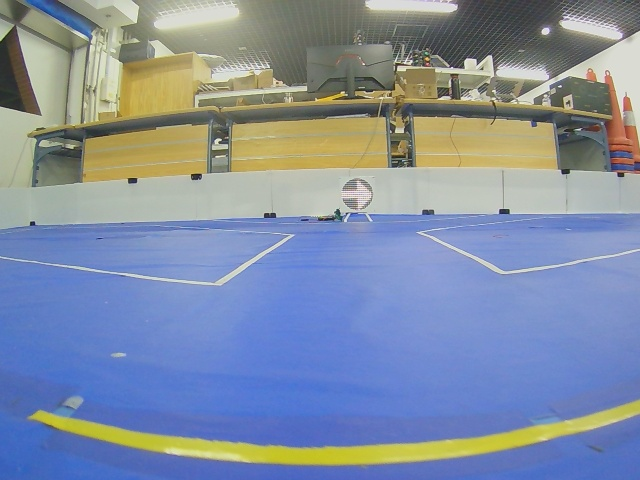right_yellow: (341, 178, 373, 211)
